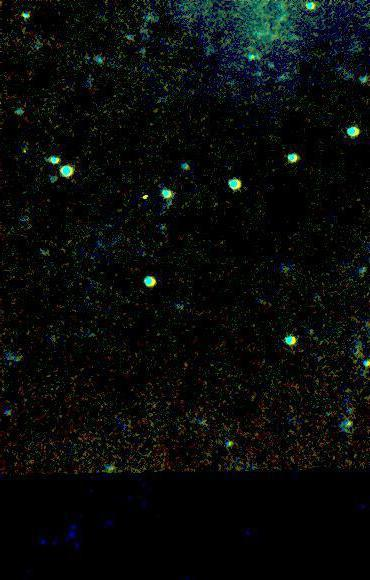star: (132, 180, 162, 210)
